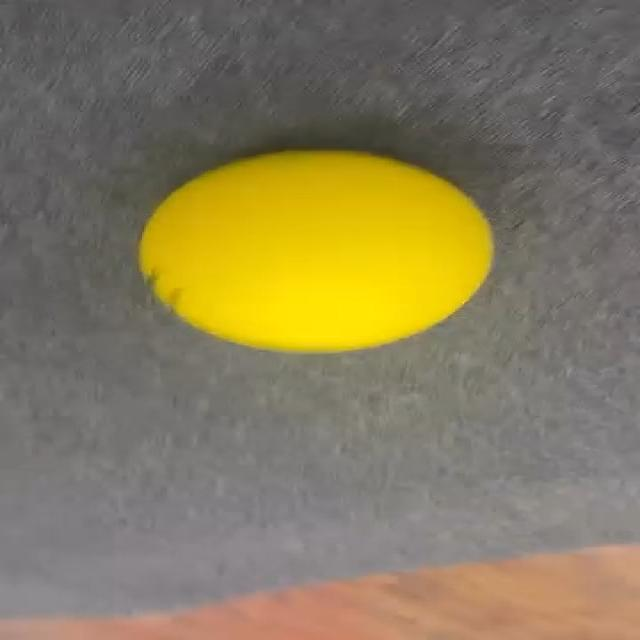Fuels: (142, 144, 492, 353)
